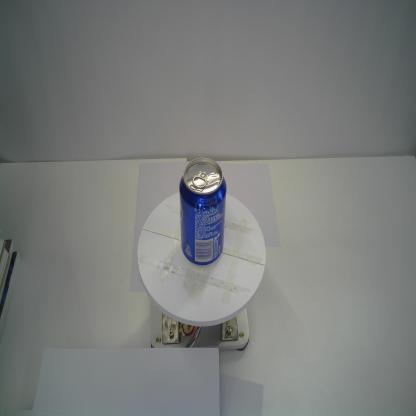Drink: (179, 157, 227, 266)
